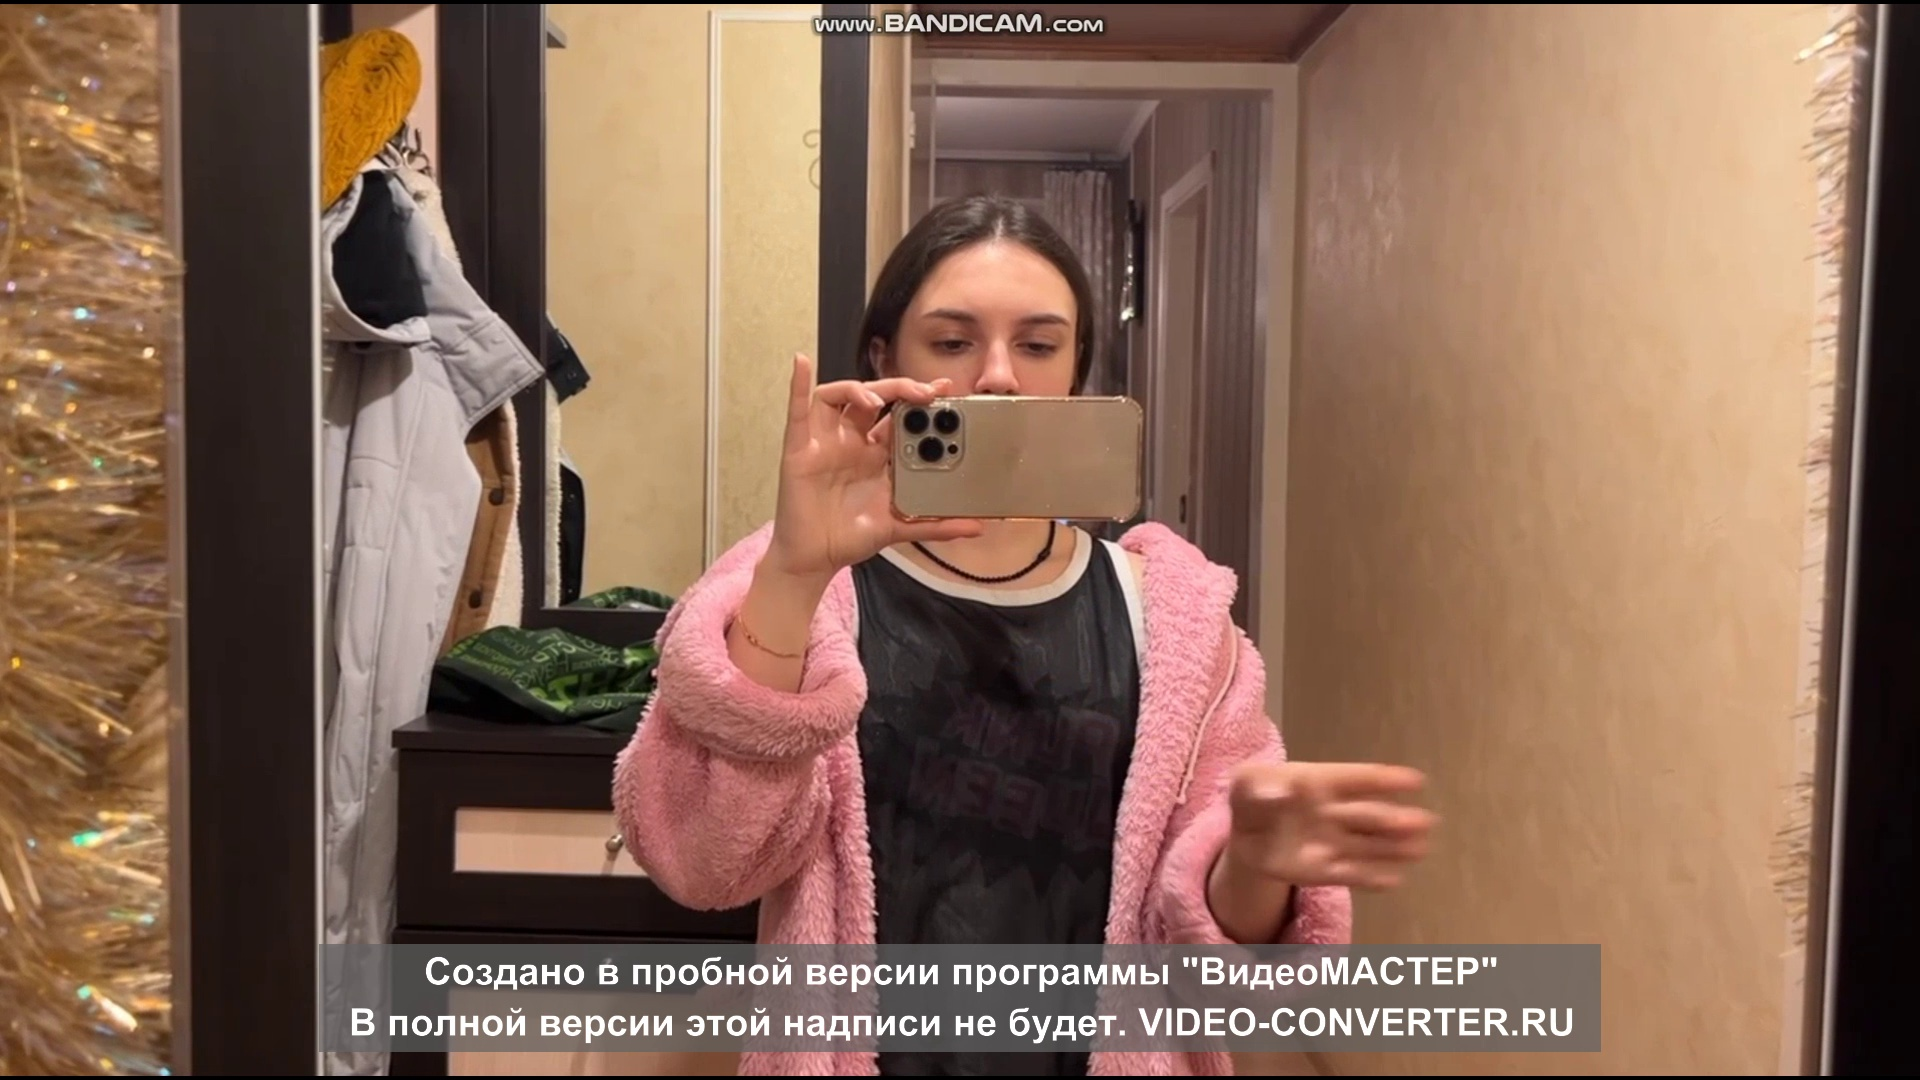Ладонь: (1221, 758, 1432, 887)
